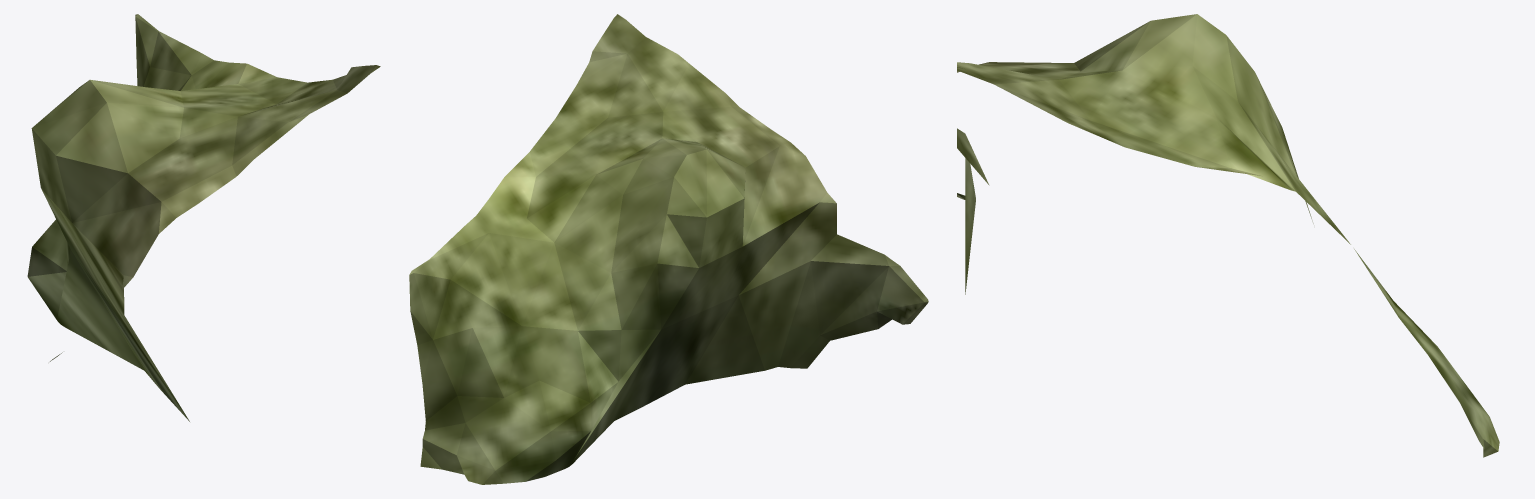
3 renders of one model, left to right at view 1: azimuth 30°, elevation 25°; view 2: azimuth 150°, elevation 25°; view 3: azimuth 270°, elevation 25°, orthographic. The views are drawn at different scales.
Bounding box in the file's own units: 0.9414 × 0.8918 × 1.09.
Materials: 1 (1 with a texture image).
